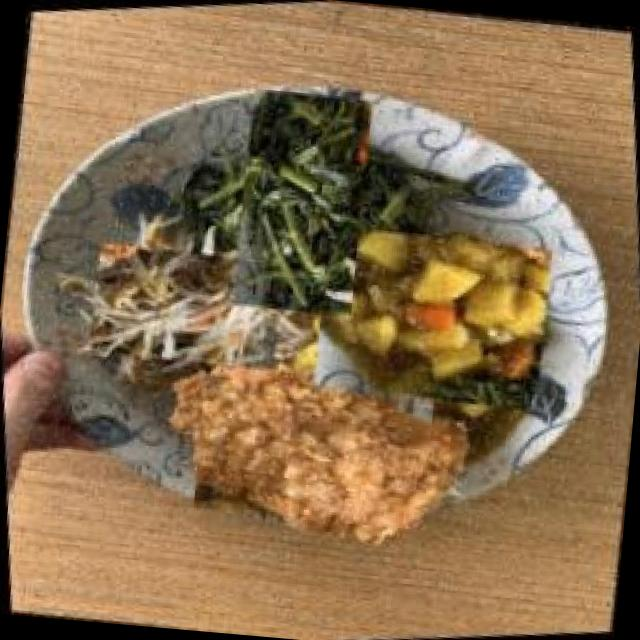curry: (288, 195, 574, 438)
fried_chicken: (173, 344, 452, 558)
mung_bean_sprouts: (72, 216, 300, 392)
water_spinach: (186, 86, 417, 318)
